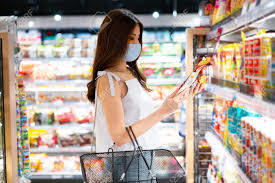with_basket: (78, 129, 186, 183)
with_mask: (103, 13, 145, 63)
